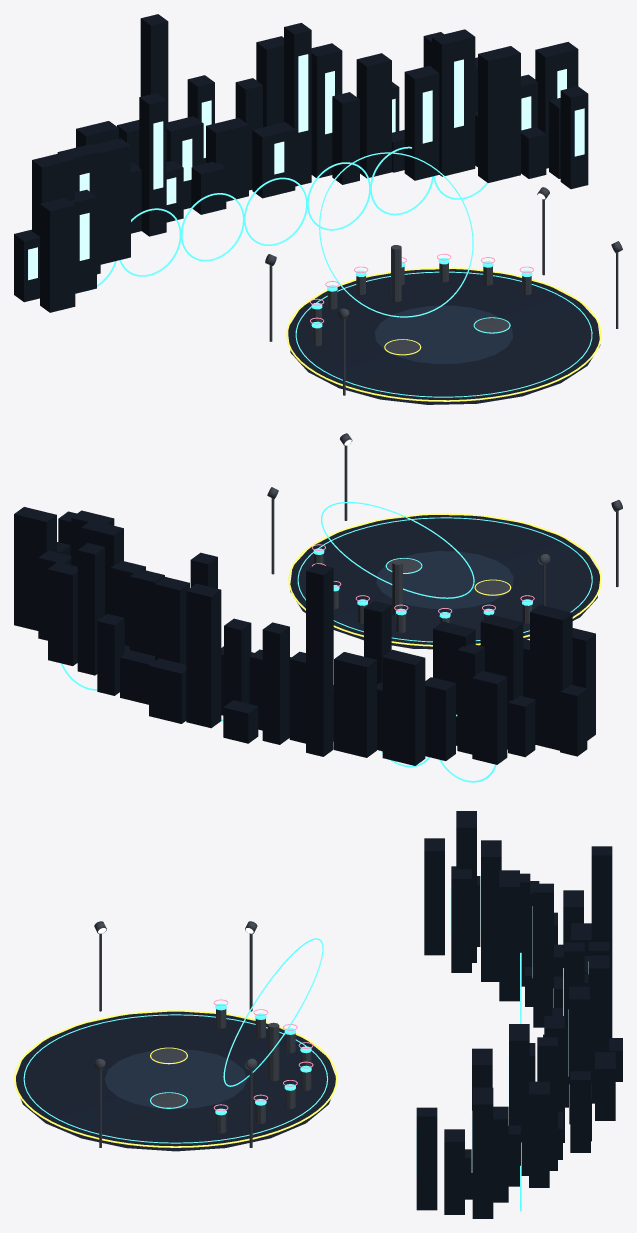
File: arena.glb
3 views of the same model, one above another, from view 1: azimuth 30°, elevation 25°; view 2: azimuth 150°, elevation 25°; view 3: azimuth 270°, elevation 25° (orthographic). The views are drawn at different scales.
Visible parts, largest first — view 1: stage, skyline_5, stage_inner, skyline_8, skyline_13, skyline_43, skyline_35, skyline_10, skyline_30, skyline_18, skyline_16, skyline_20 (+30 smaller); view 2: stage, skyline_27, stage_inner, skyline_19, skyline_41, skyline_32, skyline_29, skyline_2, skyline_24, skyline_9, skyline_37, skyline_7 (+26 smaller); view 3: stage, stage_inner, skyline_30, skyline_2, skyline_35, skyline_38, skyline_8, skyline_27, skyline_43, skyline_19, skyline_0, skyline_7 (+18 smaller).
Boxes of the visible parts, x1,y1,x2,y2 form: stage: (288, 269, 600, 404); skyline_5: (478, 46, 520, 182); stage_inner: (375, 305, 512, 363); skyline_8: (432, 29, 475, 176); skyline_13: (356, 53, 391, 178); skyline_43: (40, 198, 75, 312); skyline_35: (92, 138, 130, 264); skyline_10: (404, 65, 439, 180); skyline_30: (139, 93, 166, 236); skyline_18: (284, 23, 311, 186); skyline_16: (311, 43, 342, 177); skyline_20: (252, 122, 295, 198); stage: (290, 515, 599, 649); skyline_27: (306, 563, 333, 756); stage_inner: (376, 551, 513, 609); skyline_19: (186, 583, 221, 728); skyline_41: (530, 605, 572, 750); skyline_32: (382, 649, 425, 765); skyline_29: (334, 652, 376, 757); skyline_2: (14, 507, 56, 630); skyline_24: (262, 622, 289, 744); skyline_9: (77, 543, 104, 675); skyline_37: (472, 670, 507, 764); skyline_7: (48, 562, 77, 665); stage: (16, 1011, 335, 1151); stage_inner: (104, 1049, 246, 1109); skyline_30: (533, 883, 553, 1027); skyline_2: (472, 1087, 493, 1218); skyline_35: (499, 870, 519, 1001); skyline_38: (481, 840, 501, 981); skyline_8: (509, 1024, 529, 1175); skyline_27: (591, 846, 612, 1037); skyline_43: (424, 838, 444, 955); skyline_19: (588, 955, 609, 1103); skyline_0: (416, 1107, 437, 1210); skyline_7: (529, 1081, 549, 1187).
Bounding box in the file's own units: 57.73 × 21.28 × 52.97.
